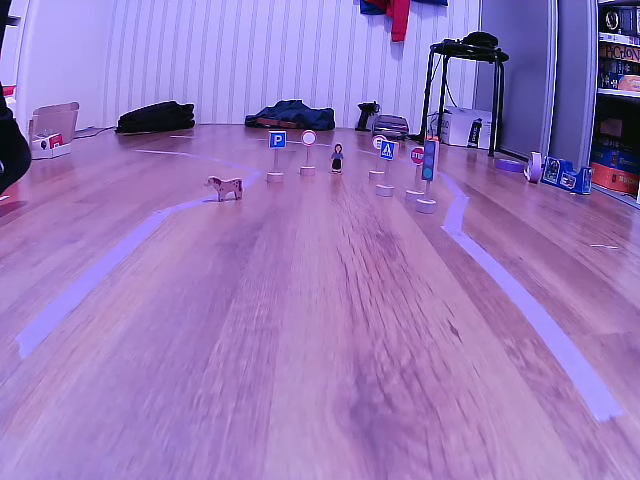groenlicht: (424, 139, 437, 181)
mens: (331, 141, 345, 175)
paard: (203, 175, 247, 203)
parkeerbord: (269, 131, 286, 148)
stopbord: (410, 146, 423, 163)
wegdicht: (301, 130, 314, 146)
zebrapad: (382, 139, 395, 161)
